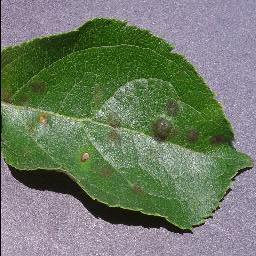apple healthy: (0, 16, 254, 232)
